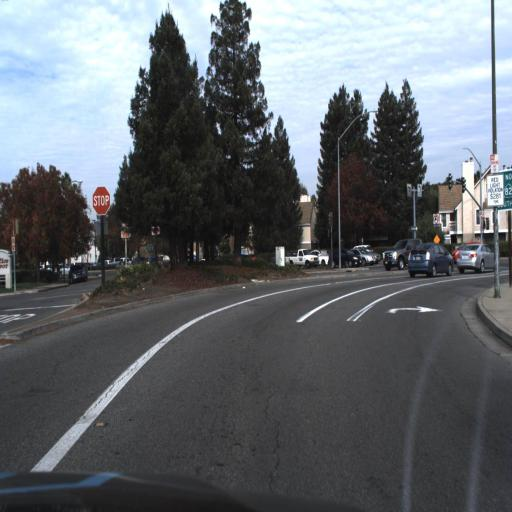car: (405, 236, 455, 282), (407, 239, 454, 282), (454, 240, 504, 276), (379, 230, 412, 273), (453, 241, 495, 274), (285, 246, 319, 271), (62, 260, 90, 288), (330, 244, 360, 269), (331, 246, 363, 268), (64, 258, 86, 287), (318, 247, 331, 269)
